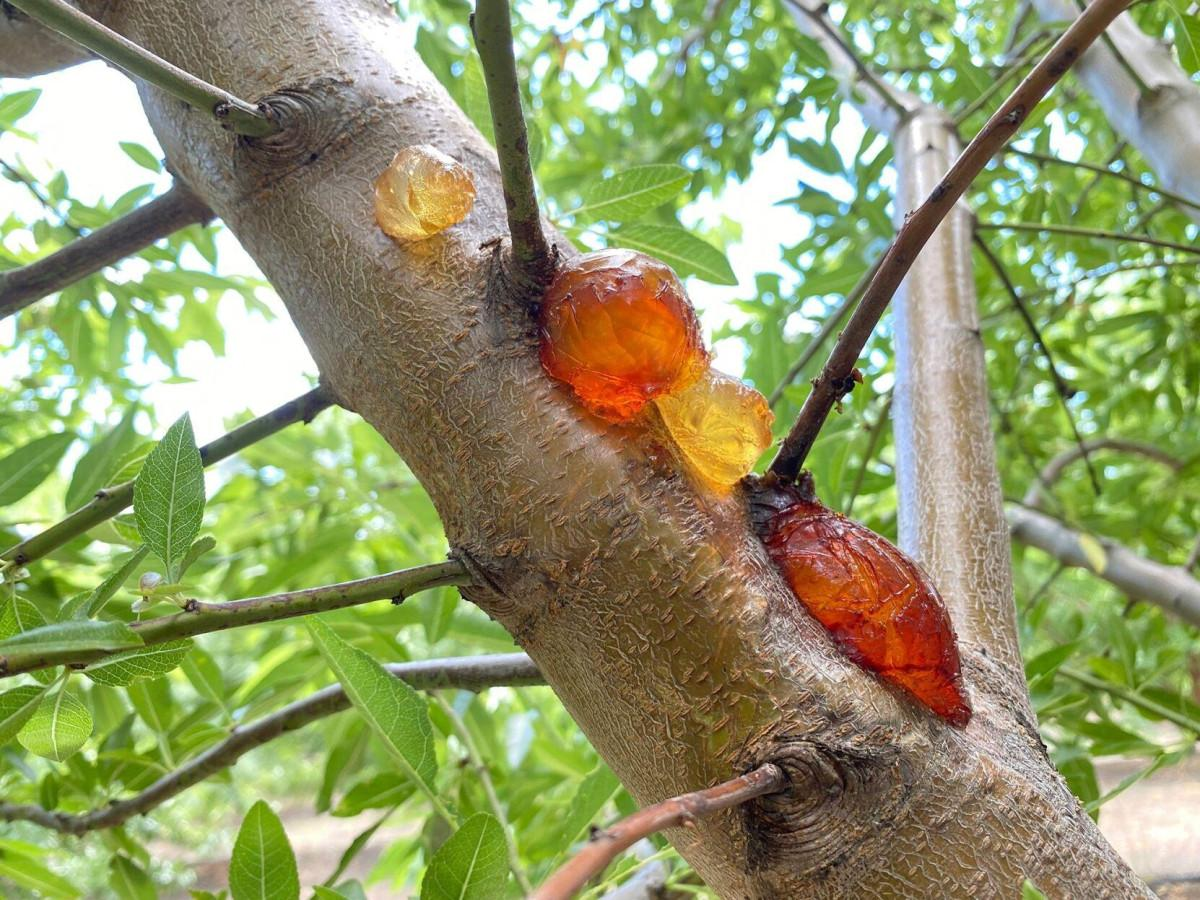gommosis: (755, 472, 971, 726), (539, 251, 707, 421), (655, 369, 773, 488), (375, 145, 474, 242)
